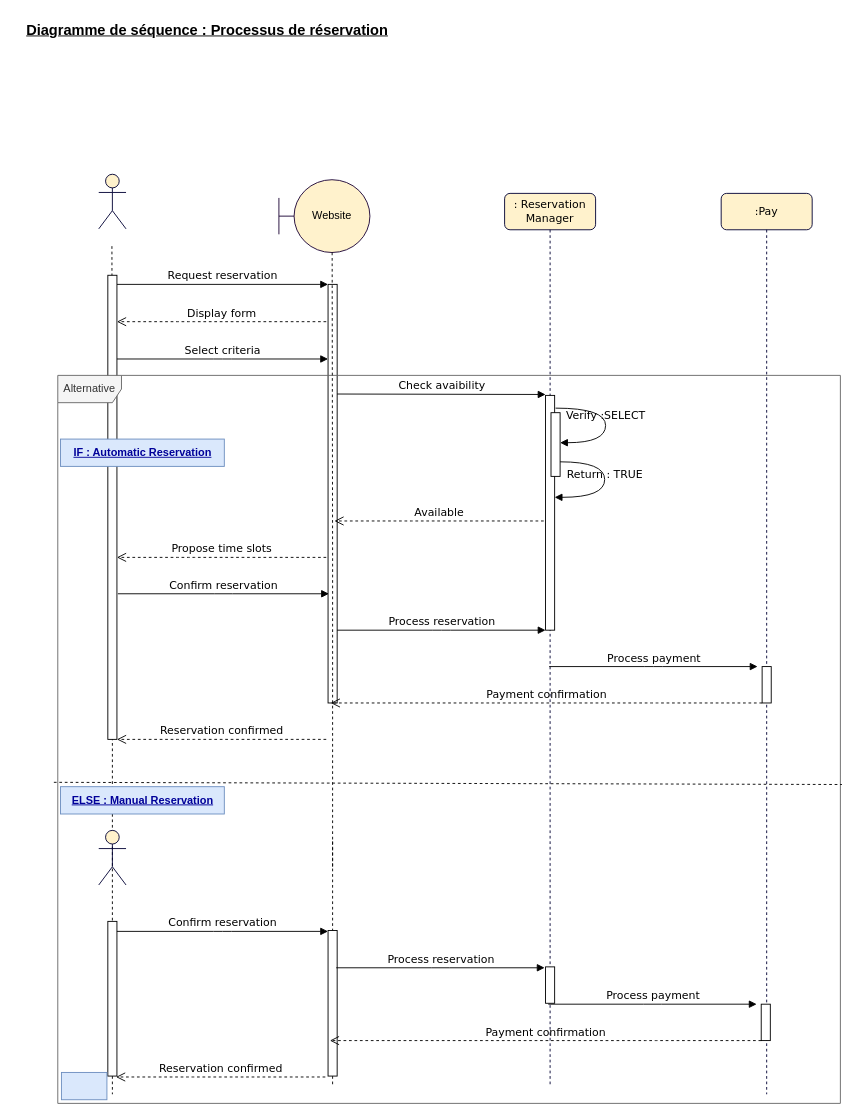
The diagram is 859 pixels wide and 1119 high, and some of its shapes have lost their labels. Here are the shapes that lost their labels. From the top down, the centre of each, then its label:
At (112,201): "Client".
At (112,857): "Staff".
At (84,1086): "END".
